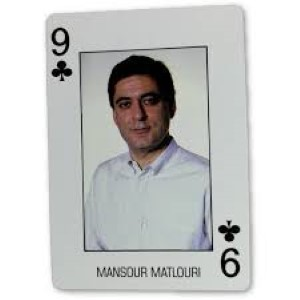NineOfClubs: (37, 2, 260, 293)
